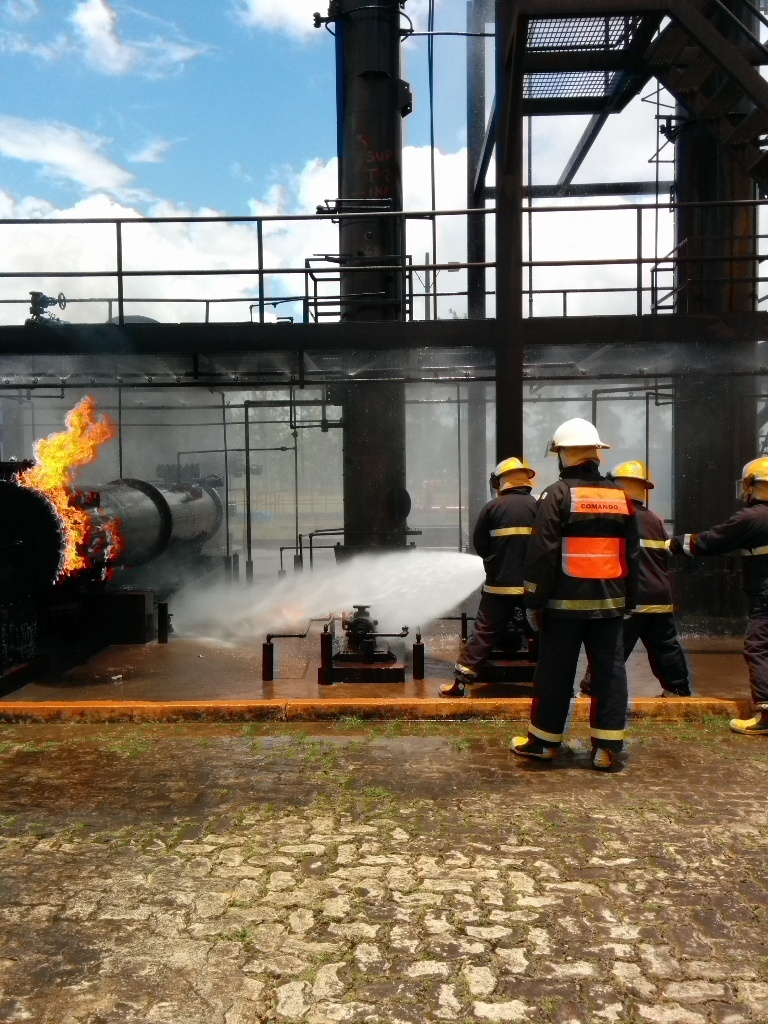fire: (20, 399, 116, 571)
